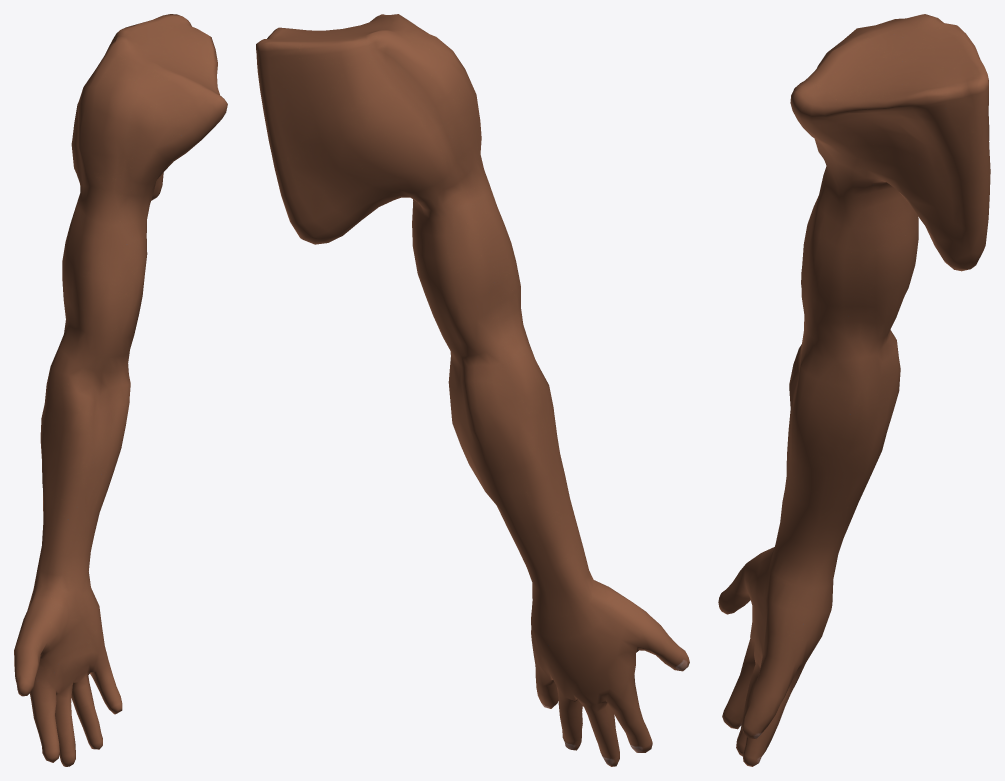
The model's file is Upper limb skin.fbx.
The picture shows the model from 3 angles, left to right: view 1: azimuth 30°, elevation 25°; view 2: azimuth 150°, elevation 25°; view 3: azimuth 270°, elevation 25°; orthographic projection. The views are drawn at different scales.
Parts seen in each view (by area): view 1: Upper_limb_skin_part2, Upper_limb_skin_part3, Upper_limb_skin_part1; view 2: Upper_limb_skin_part2, Upper_limb_skin_part1, Upper_limb_skin_part3; view 3: Upper_limb_skin_part2, Upper_limb_skin_part1, Upper_limb_skin_part3.
Boxes of the visible parts, x1,y1,x2,y2 form: Upper_limb_skin_part2: [37, 36, 227, 575]; Upper_limb_skin_part3: [14, 568, 122, 766]; Upper_limb_skin_part1: [71, 14, 219, 200]; Upper_limb_skin_part2: [370, 14, 589, 592]; Upper_limb_skin_part1: [256, 20, 445, 244]; Upper_limb_skin_part3: [531, 571, 689, 766]; Upper_limb_skin_part2: [775, 14, 937, 565]; Upper_limb_skin_part1: [823, 18, 990, 271]; Upper_limb_skin_part3: [718, 544, 838, 766].
Bounding box in the file's own units: 35.72 × 80.79 × 24.35.
